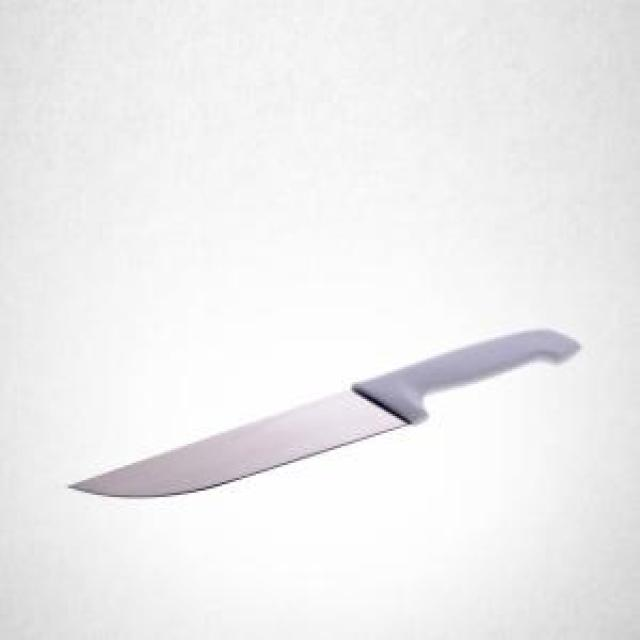knife: (68, 329, 585, 499)
